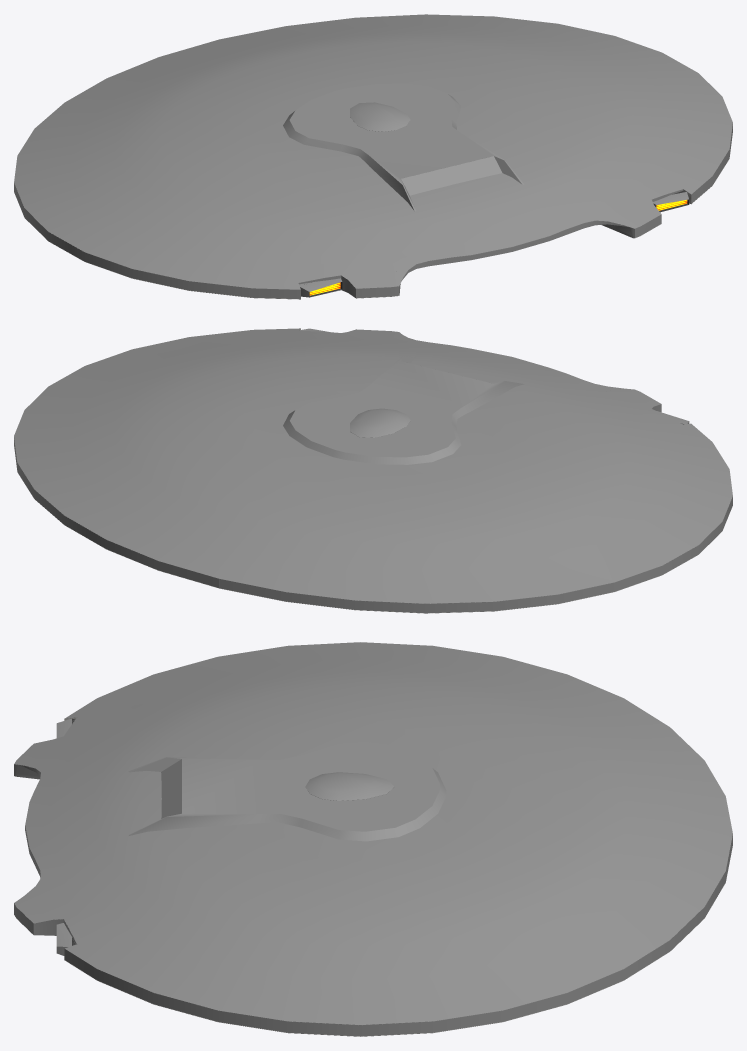
The model's file is Saucer.FBX.
The picture shows the model from 3 angles, top to bottom: view 1: azimuth 30°, elevation 25°; view 2: azimuth 150°, elevation 25°; view 3: azimuth 270°, elevation 25°; orthographic projection. The views are drawn at different scales.
Parts seen in each view (by area): view 1: Effect; view 2: Effect; view 3: Effect.
Boxes of the visible parts, box(x1,y1,x2,y2) form: Effect: box(14, 14, 732, 299); Effect: box(14, 328, 732, 613); Effect: box(14, 642, 732, 1036).
Size of the model in its own units: 23.28 by 2.73 by 18.47.
